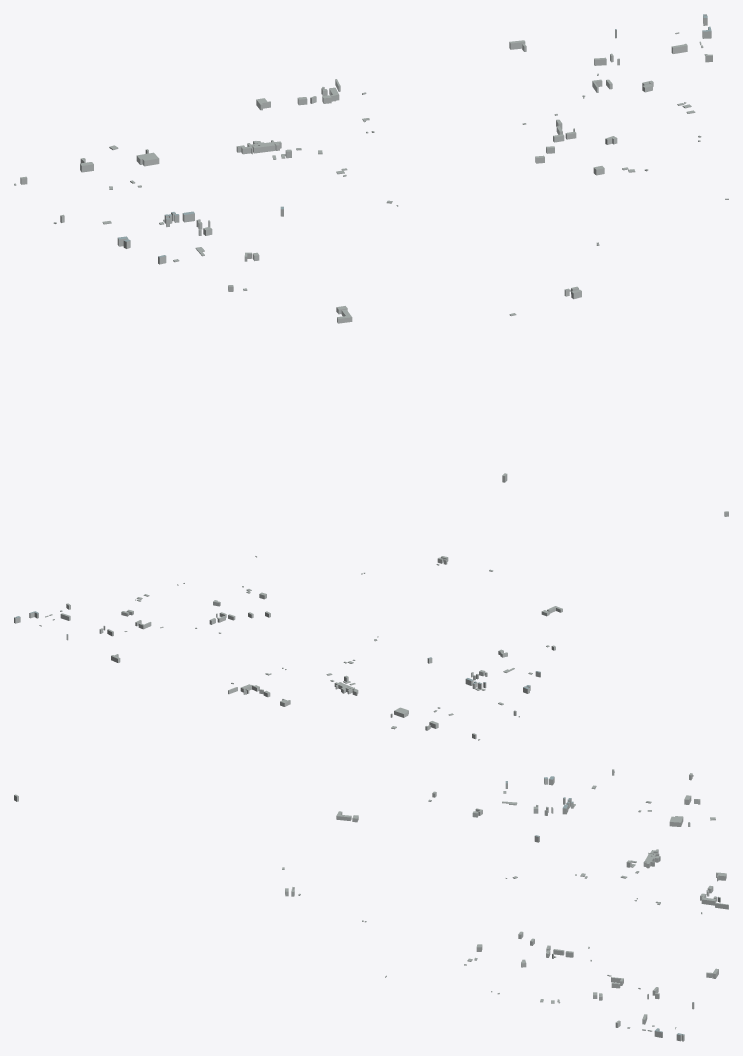
The model's file is far.glb.
3 renders of one model, top to bottom at view 1: azimuth 30°, elevation 25°; view 2: azimuth 150°, elevation 25°; view 3: azimuth 270°, elevation 25°, orthographic. The views are drawn at different scales.
Bounding box in the file's own units: 1874 × 21.7 × 2099.
